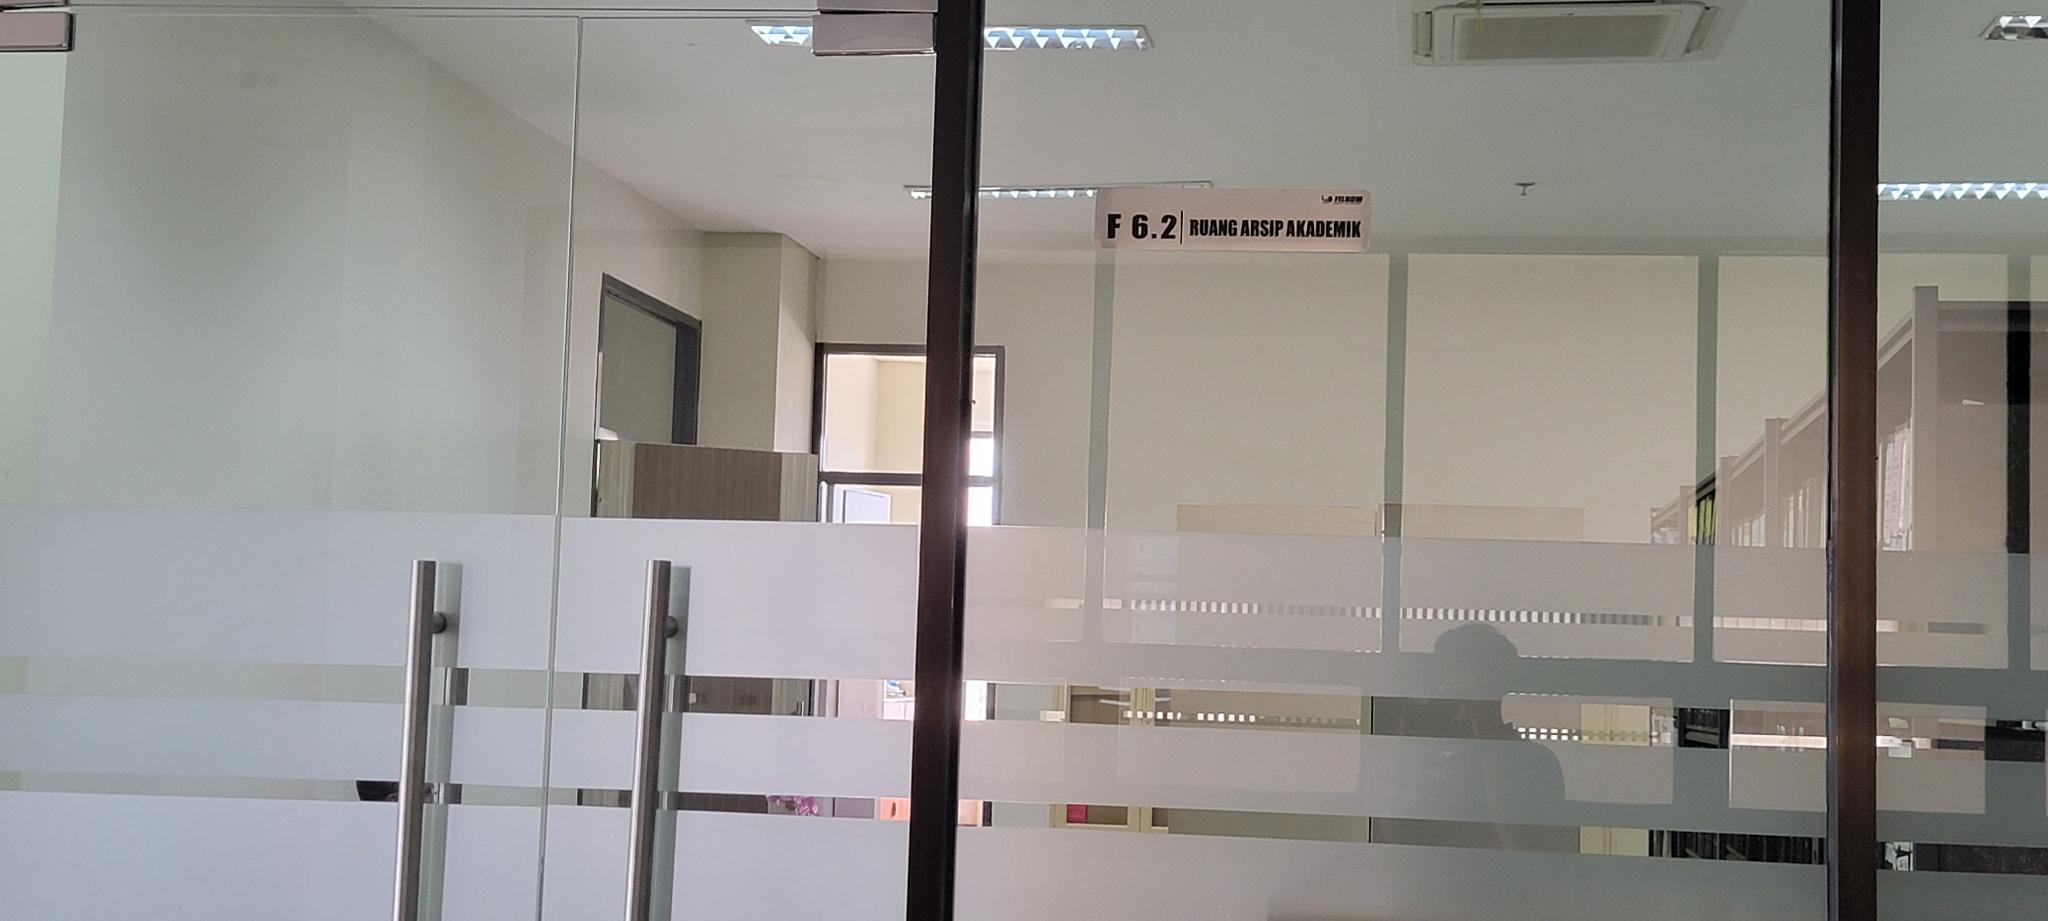plate: (1093, 187, 1371, 252)
